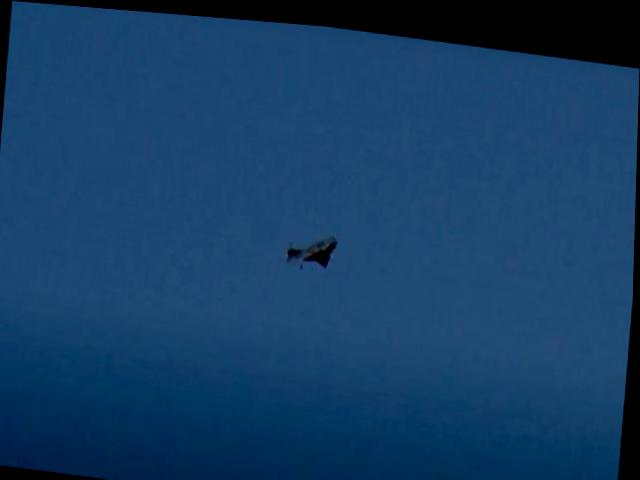iha: (287, 226, 339, 267)
